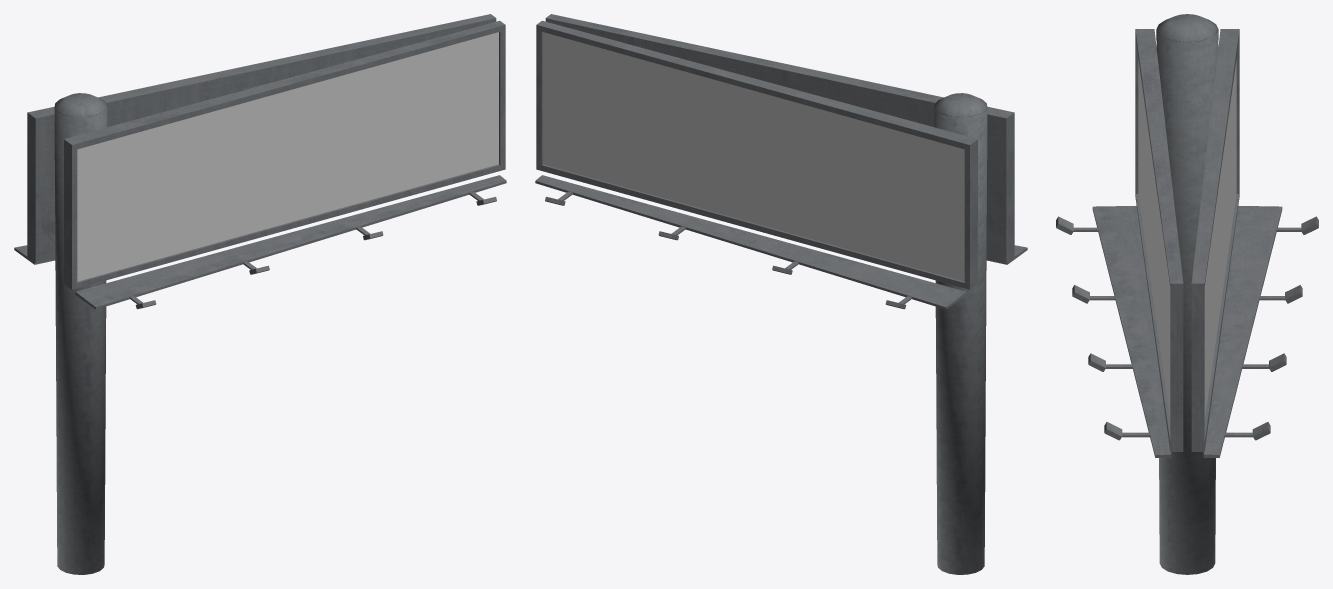
The picture shows the model from 3 angles, left to right: view 1: azimuth 30°, elevation 25°; view 2: azimuth 150°, elevation 25°; view 3: azimuth 270°, elevation 25°; orthographic projection. The views are drawn at different scales.
Visible parts, largest first — view 1: billboard-2.baked_0; view 2: billboard-2.baked_0; view 3: billboard-2.baked_0.
Boxes of the visible parts, <box> form: billboard-2.baked_0: <box>14,14,506,574</box>; billboard-2.baked_0: <box>535,14,1027,574</box>; billboard-2.baked_0: <box>1056,14,1318,574</box>.
Bounding box in the file's own units: 18.68 × 18.52 × 8.15.
